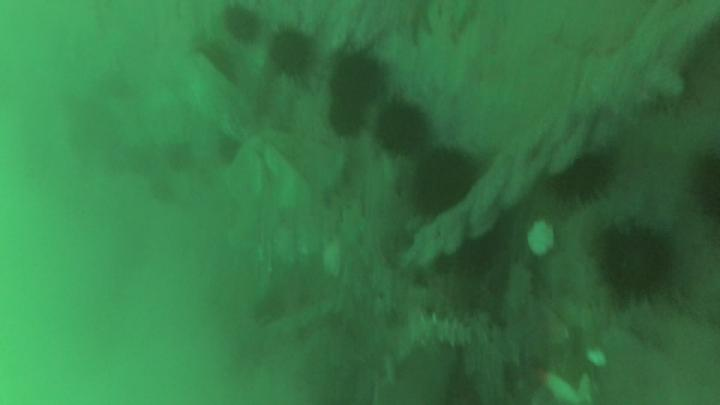echinus: (601, 229, 673, 301), (417, 149, 477, 215), (377, 101, 425, 155), (558, 156, 609, 200), (333, 56, 385, 98), (270, 30, 312, 77), (332, 99, 364, 135), (224, 9, 258, 40)
holothurian: (410, 312, 472, 350)
